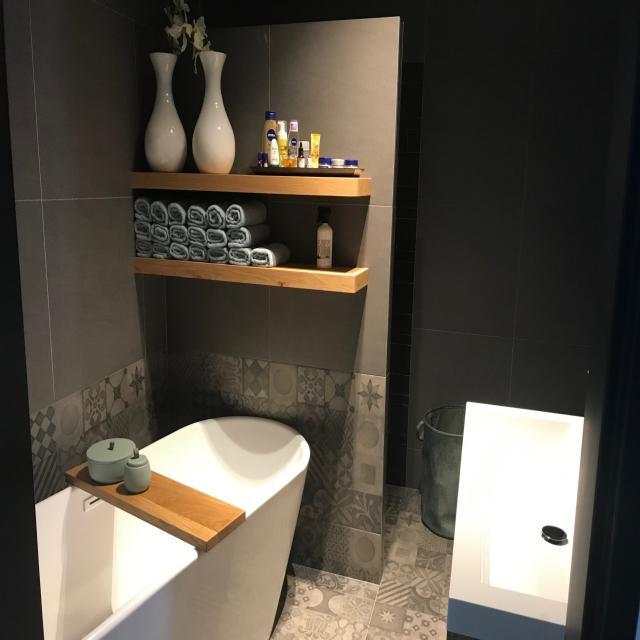bath: (33, 412, 313, 640)
wastafel: (448, 398, 586, 640)
